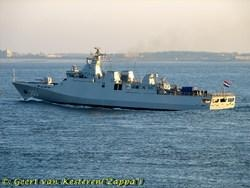warship: (10, 46, 235, 112)
